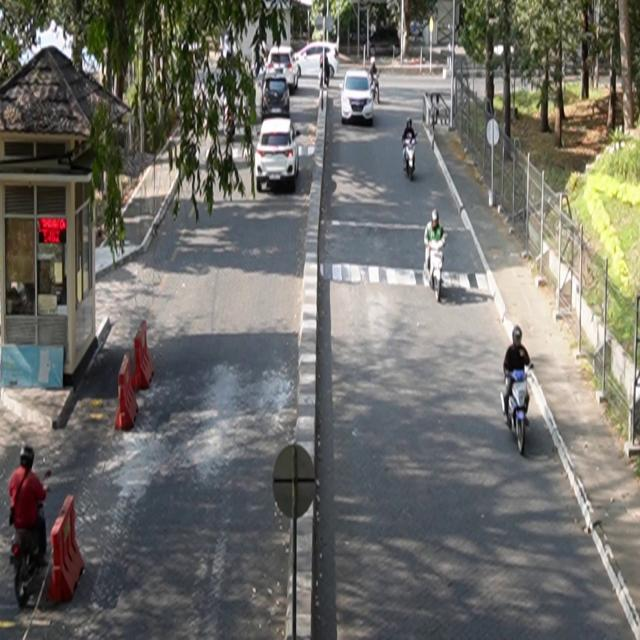car: (256, 118, 302, 193), (341, 69, 375, 126), (293, 42, 340, 80)
